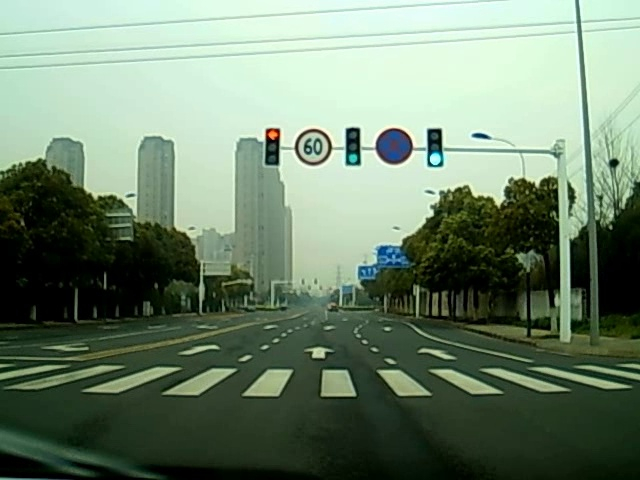Traffic_Light_go: (425, 130, 444, 167), (345, 129, 361, 167)
Traffic_Light_stop: (264, 128, 281, 167)
